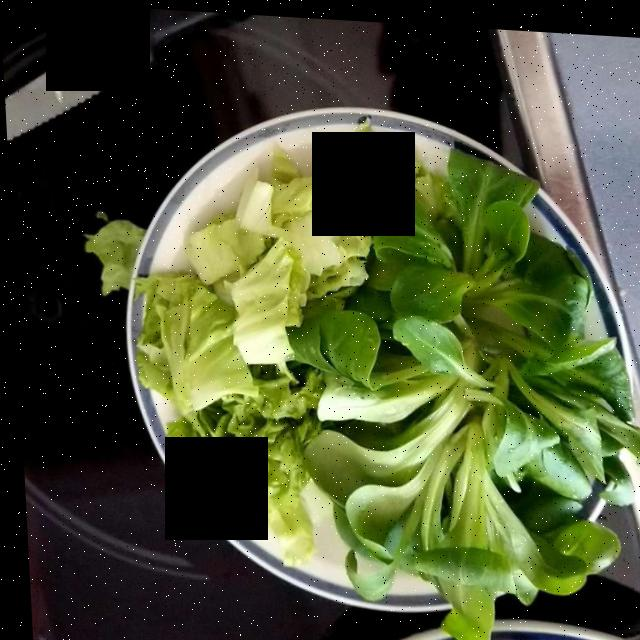salad-lambs-ear: (317, 164, 619, 636)
salad-leaf-salad-green: (102, 136, 383, 543)
